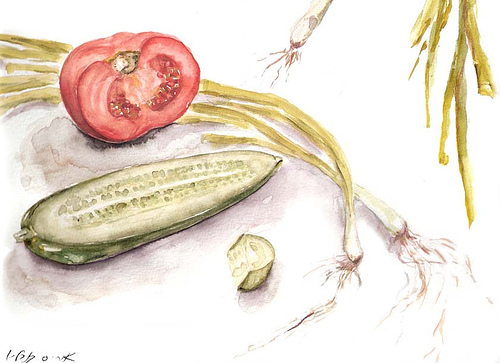cucumber: (13, 148, 283, 267)
